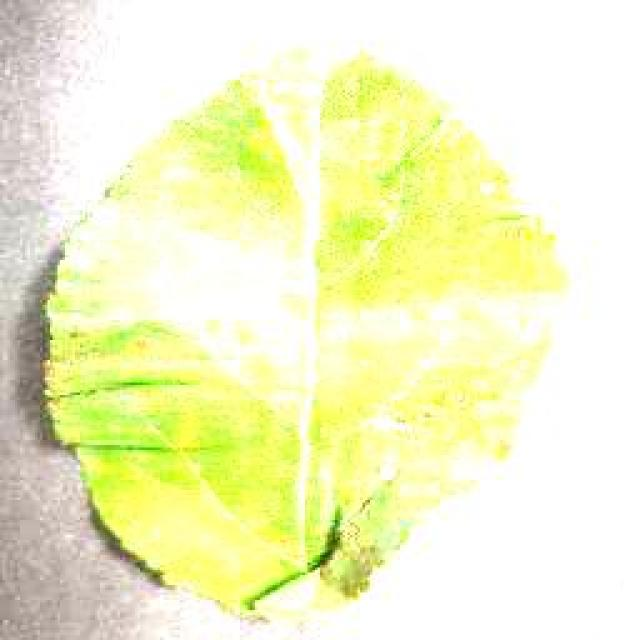apple scab disease: (35, 42, 567, 622)
